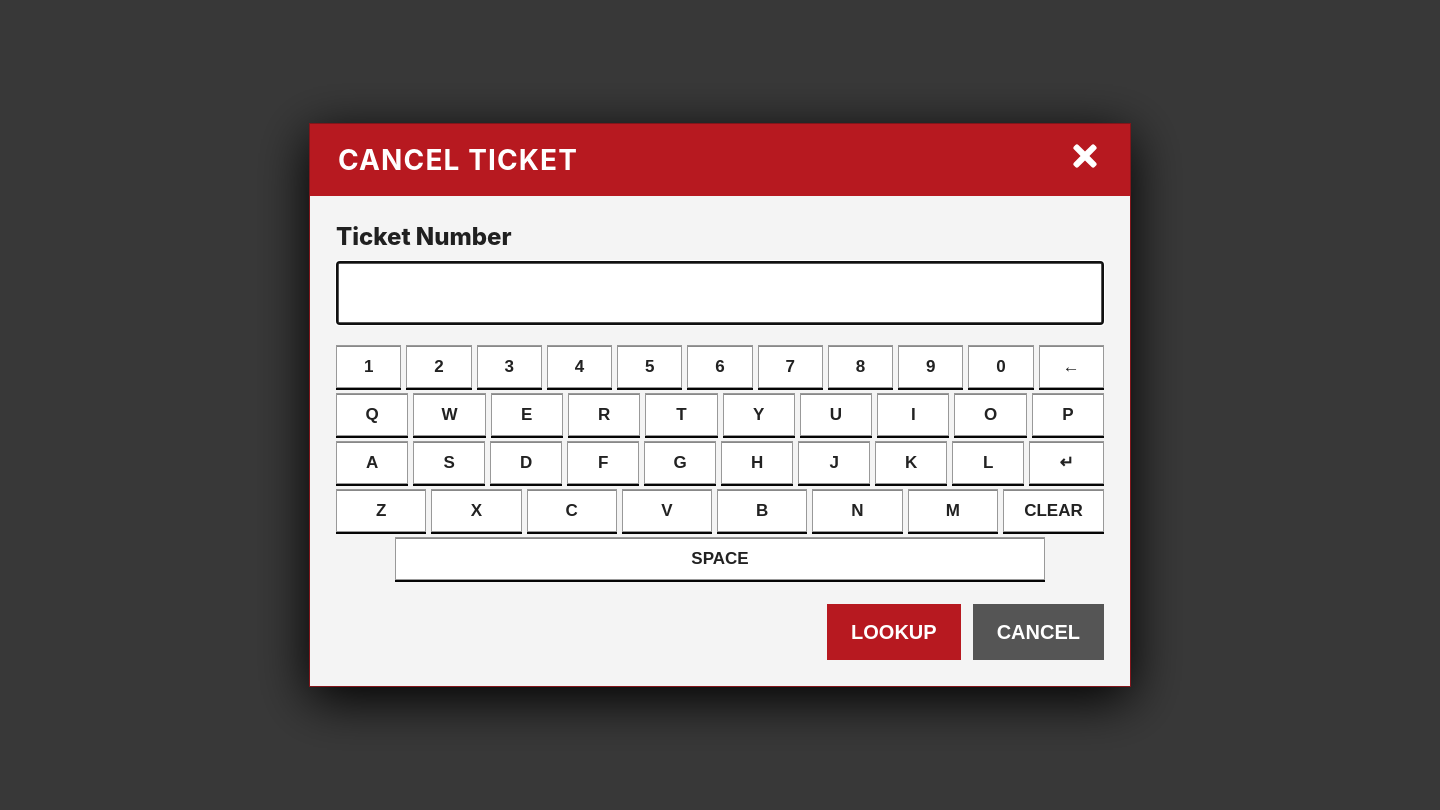
successful lookup displays an eligible ticket and cancellation fields
The width and height of the screenshot is (1440, 810).
Type " vt-abc " into the field labelled "Ticket Number". click: (720, 293)
box: top-left (336, 261), bottom-right (1104, 325)
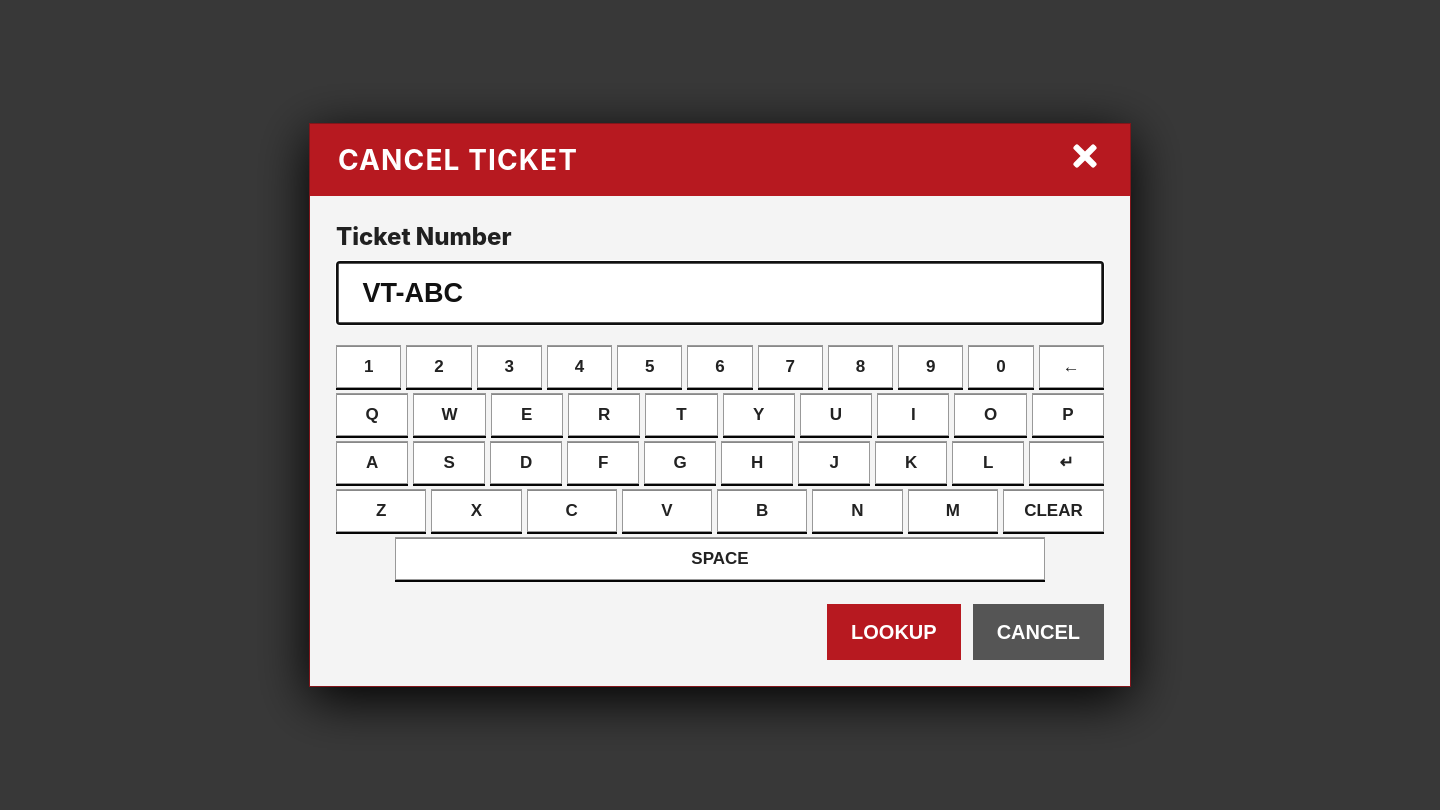
Press Enter in the field labelled "Ticket Number", box top-left (336, 261), bottom-right (1104, 325)
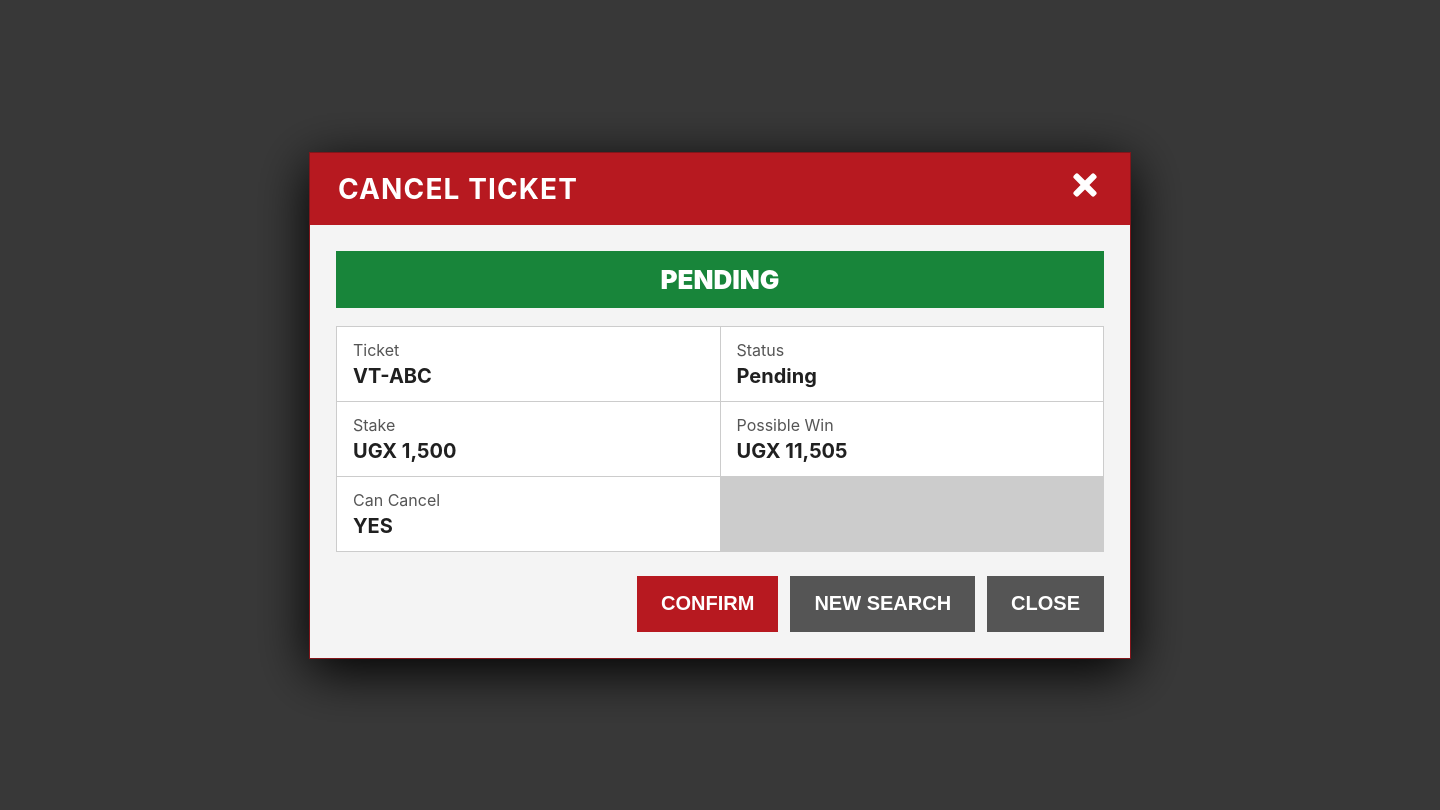
Expected: the button "CONFIRM" is enabled, top-left (637, 576), bottom-right (778, 632)
Result: the text "UGX 11,505" is shown at top-left (736, 438), bottom-right (848, 462)
Result: the text "YES" is shown at top-left (353, 514), bottom-right (393, 538)
